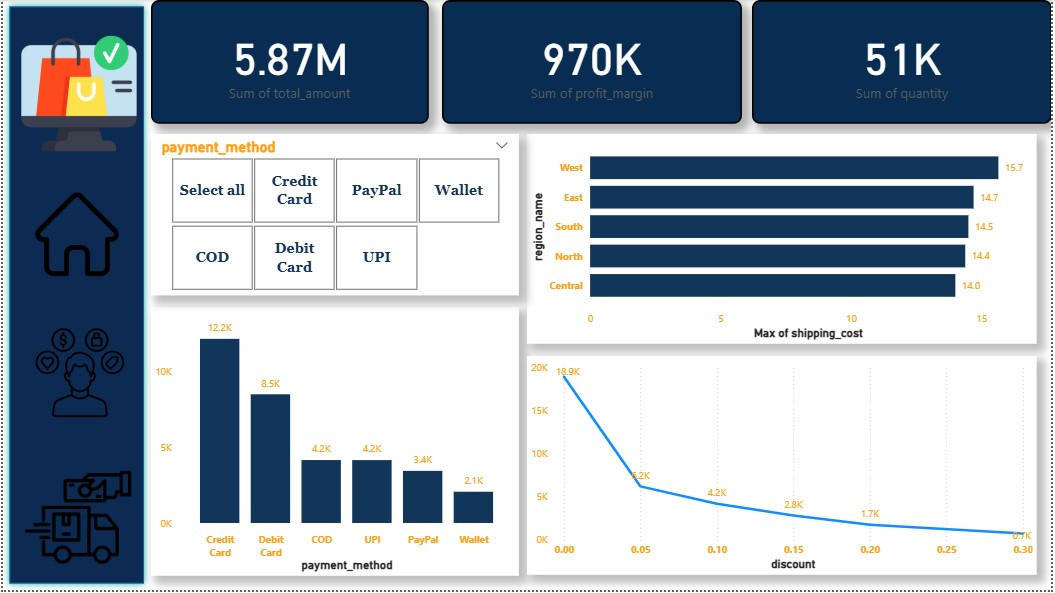

Layout of this report page (visuals, bound fields, positions):
{"tool":"powerbi","page":{"name":"Page 3","canvas":[1280,720],"ordinal":2},"visuals":[{"type":"shape","box":[0,0,180,720],"z":0},{"type":"card","fields":{"Values":["Sum(dwh fact_orders.total_amount)"]},"box":[180.3,0,338.6,151.4],"z":1000},{"type":"card","fields":{"Values":["Sum(dwh fact_orders.profit_margin)"]},"box":[535.4,0,366.1,151.4],"z":2000},{"type":"card","fields":{"Values":["Sum(dwh fact_orders.quantity)"]},"box":[913.9,0,366.1,151.4],"z":3000},{"type":"image","box":[24,389.3,138.7,130.7],"z":4000},{"type":"image","box":[14.7,561.3,153.3,140],"z":5000},{"type":"image","box":[34.7,222.7,112,128],"z":6000},{"type":"image","box":[17.3,21.3,150.7,186.7],"z":7000},{"type":"clusteredColumnChart","fields":{"Category":["dwh dim_payment.payment_method"],"Y":["CountNonNull(dwh fact_orders.order_id)"]},"box":[180.3,374.4,448.7,327.6],"z":7001},{"type":"barChart","fields":{"Y":["Max(dwh fact_orders.shipping_cost)"],"Category":["dwh dim_region.region_name"]},"box":[640,163.8,622.1,256],"z":7002},{"type":"lineChart","fields":{"Y":["CountNonNull(dwh fact_orders.order_id)"],"Category":["dwh fact_orders.discount"]},"box":[640,434.9,622.1,267],"z":7003},{"type":"slicer","fields":{"Values":["dwh dim_payment.payment_method"]},"box":[180.3,163.8,448.7,196.8],"z":7004}]}

Visuals, with their boxes in screenshot pixels (x1, y1, x2, y2), scaled from the page's 1280x720 canvas onto the 1055x593 screenshot:
shape: bbox=[0, 0, 148, 592]
card - Sum(dwh fact_orders.total_amount): bbox=[149, 0, 428, 125]
card - Sum(dwh fact_orders.profit_margin): bbox=[441, 0, 743, 125]
card - Sum(dwh fact_orders.quantity): bbox=[753, 0, 1054, 125]
image: bbox=[20, 321, 134, 428]
image: bbox=[12, 462, 138, 578]
image: bbox=[29, 183, 121, 289]
image: bbox=[14, 18, 138, 171]
clusteredColumnChart - dwh dim_payment.payment_method x CountNonNull(dwh fact_orders.order_id): bbox=[149, 308, 518, 578]
barChart - Max(dwh fact_orders.shipping_cost) x dwh dim_region.region_name: bbox=[528, 135, 1040, 346]
lineChart - CountNonNull(dwh fact_orders.order_id) x dwh fact_orders.discount: bbox=[528, 358, 1040, 578]
slicer - dwh dim_payment.payment_method: bbox=[149, 135, 518, 297]
